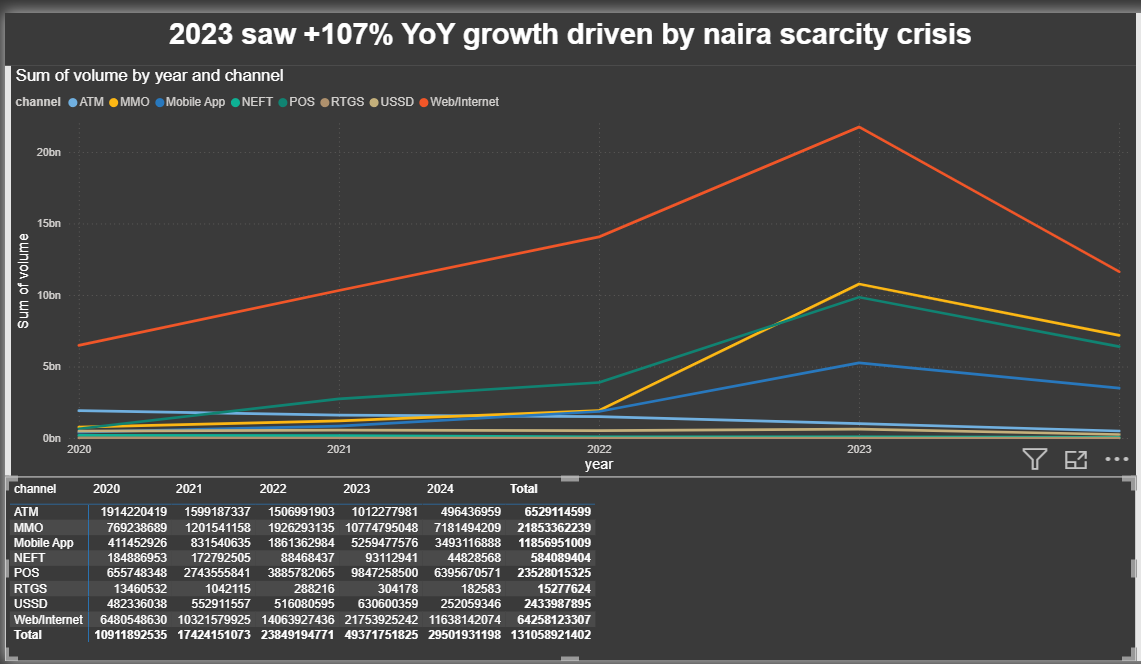

This screenshot's page, from the dashboard's own definition file:
{"tool":"powerbi","page":{"name":"Growth Trends","canvas":[1280,720],"ordinal":2},"visuals":[{"type":"lineChart","fields":{"Category":["cbn_epayment_2020_2024.year"],"Y":["Sum(cbn_epayment_2020_2024.volume)"],"Series":["cbn_epayment_2020_2024.channel"]},"box":[6.7,58.3,1238.3,436.7],"z":0},{"type":"pivotTable","fields":{"Rows":["cbn_epayment_2020_2024.channel"],"Columns":["cbn_epayment_2020_2024.year"],"Values":["Sum(cbn_epayment_2020_2024.volume)"]},"box":[0,506.7,1245,213.3],"z":1000},{"type":"textbox","box":[0,0,1231.7,58.3],"z":2000}]}

Visuals, with their boxes in screenshot pixels (x1, y1, x2, y2):
lineChart - cbn_epayment_2020_2024.year x Sum(cbn_epayment_2020_2024.volume): rect(6, 26, 1135, 424)
pivotTable - cbn_epayment_2020_2024.channel x cbn_epayment_2020_2024.year: rect(0, 435, 1135, 629)
textbox: rect(0, 0, 1123, 26)
